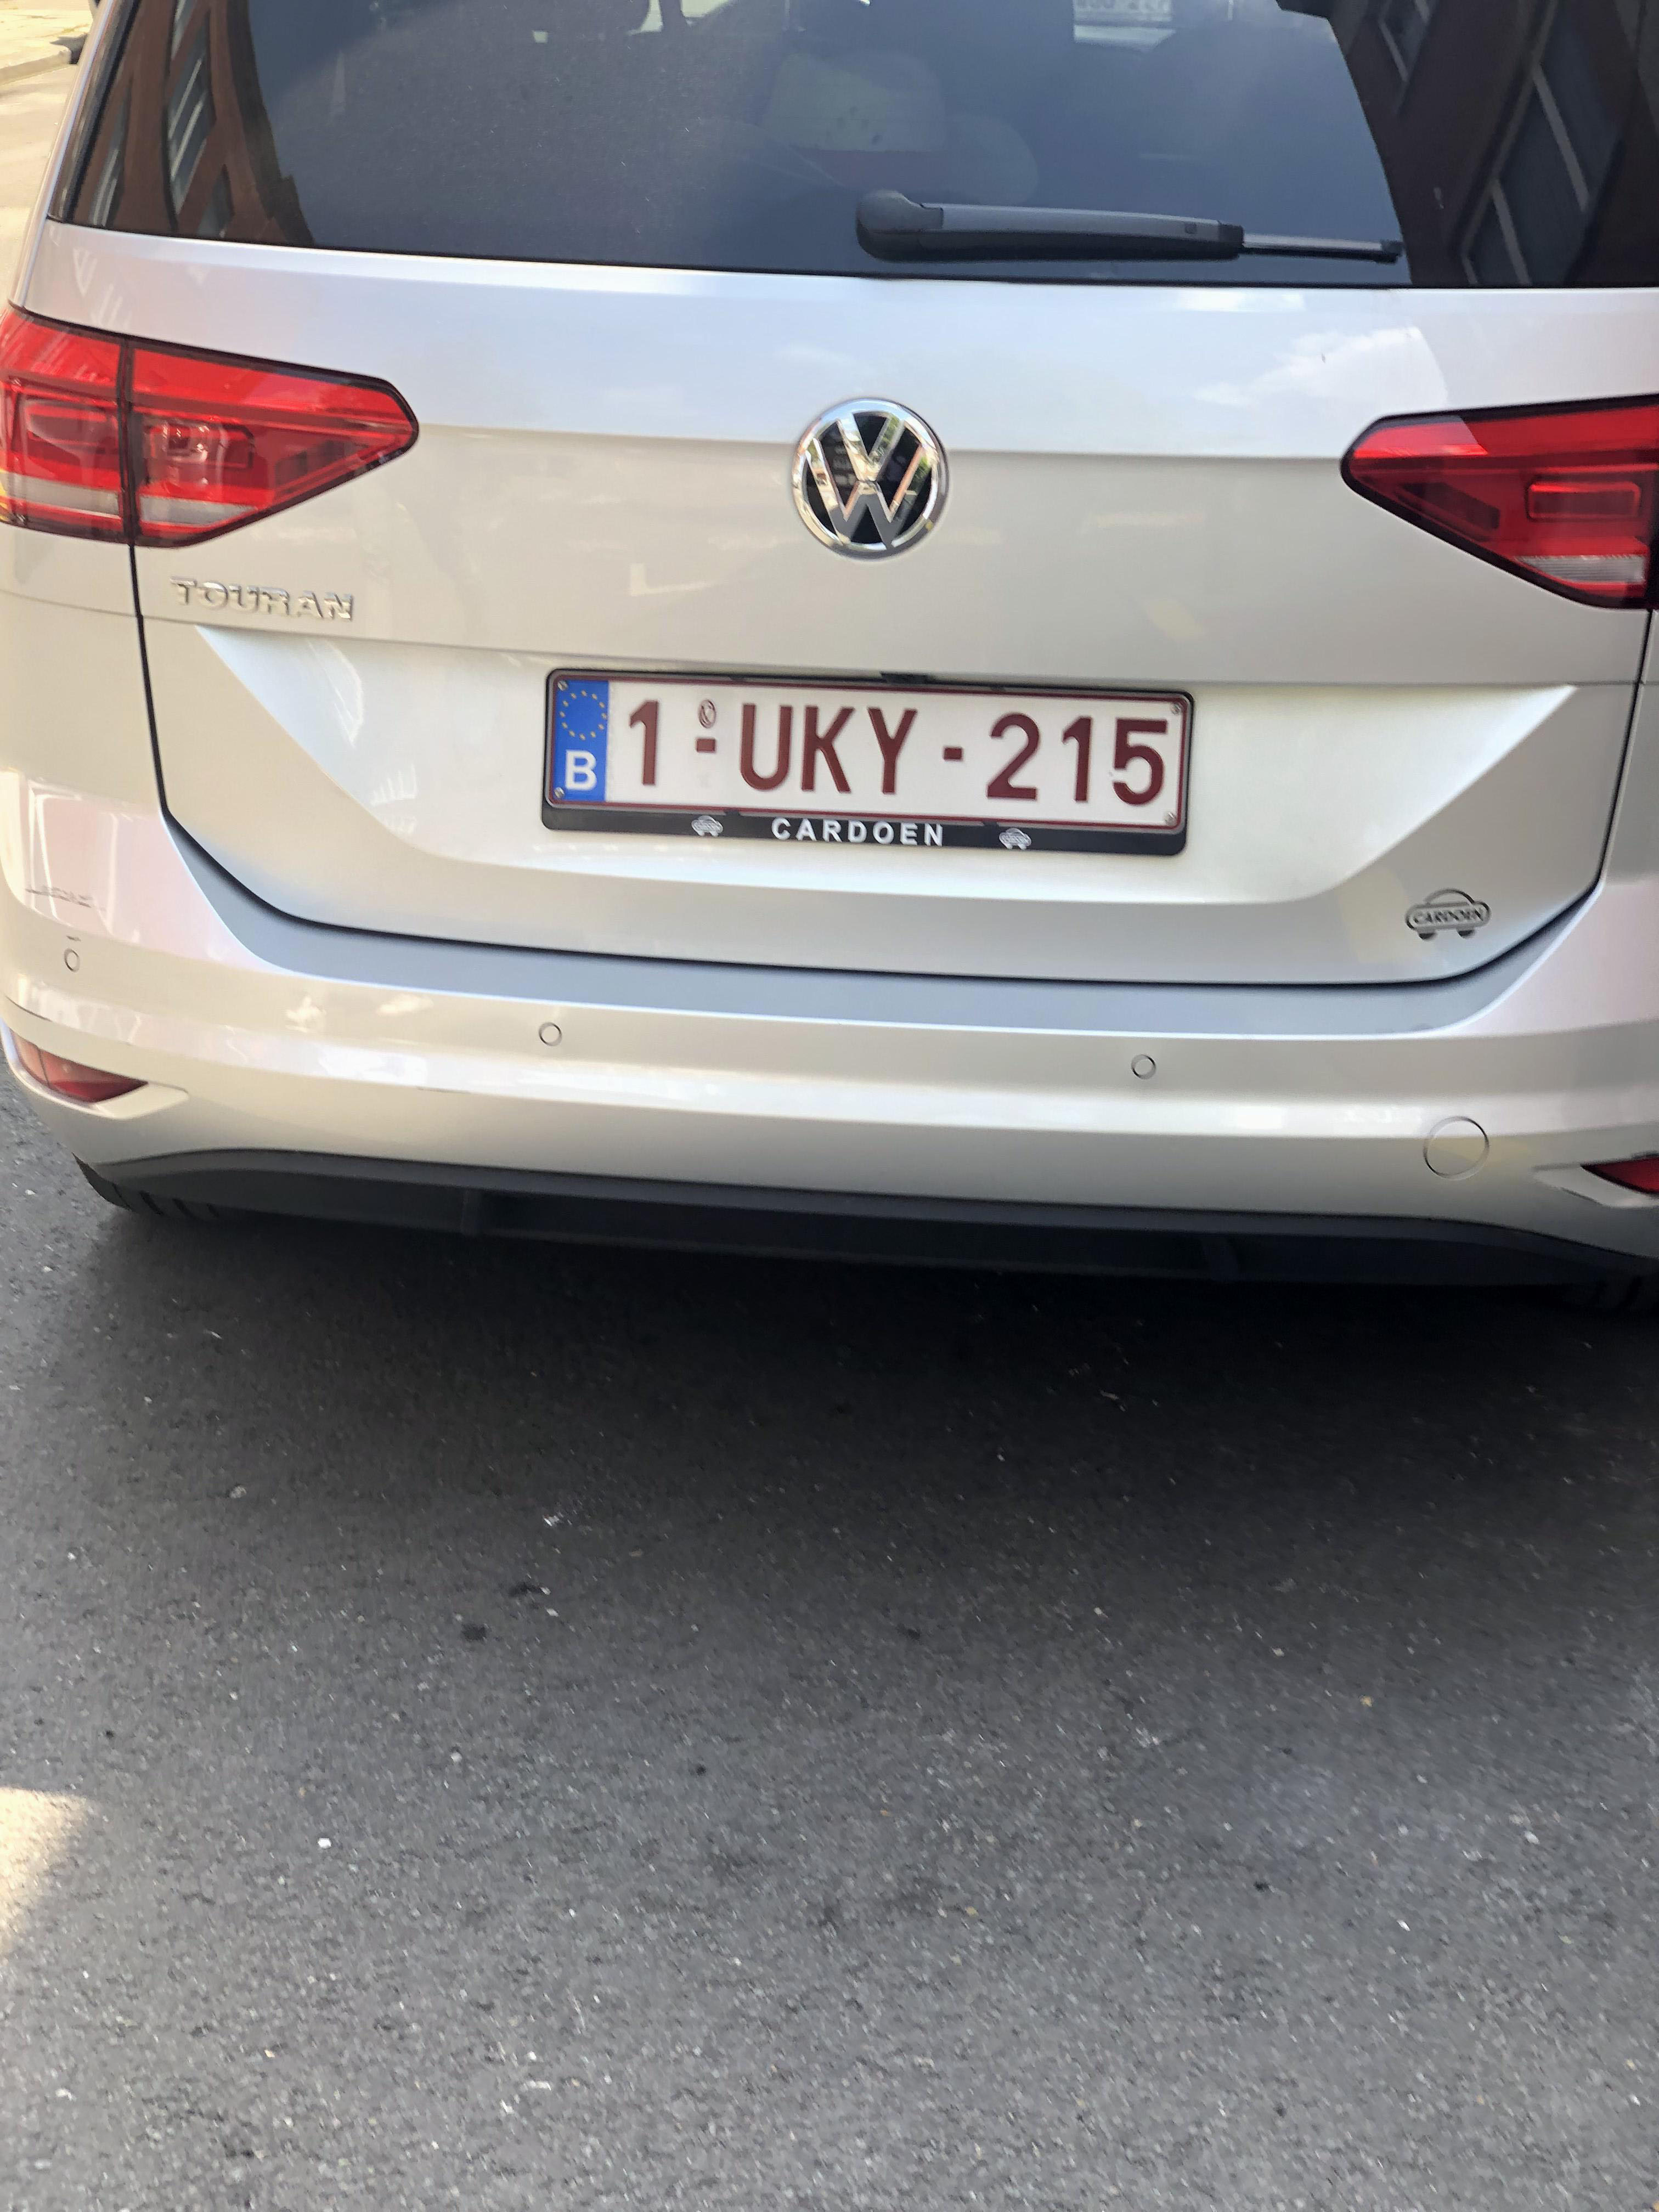plate: (426, 661, 1157, 833)
